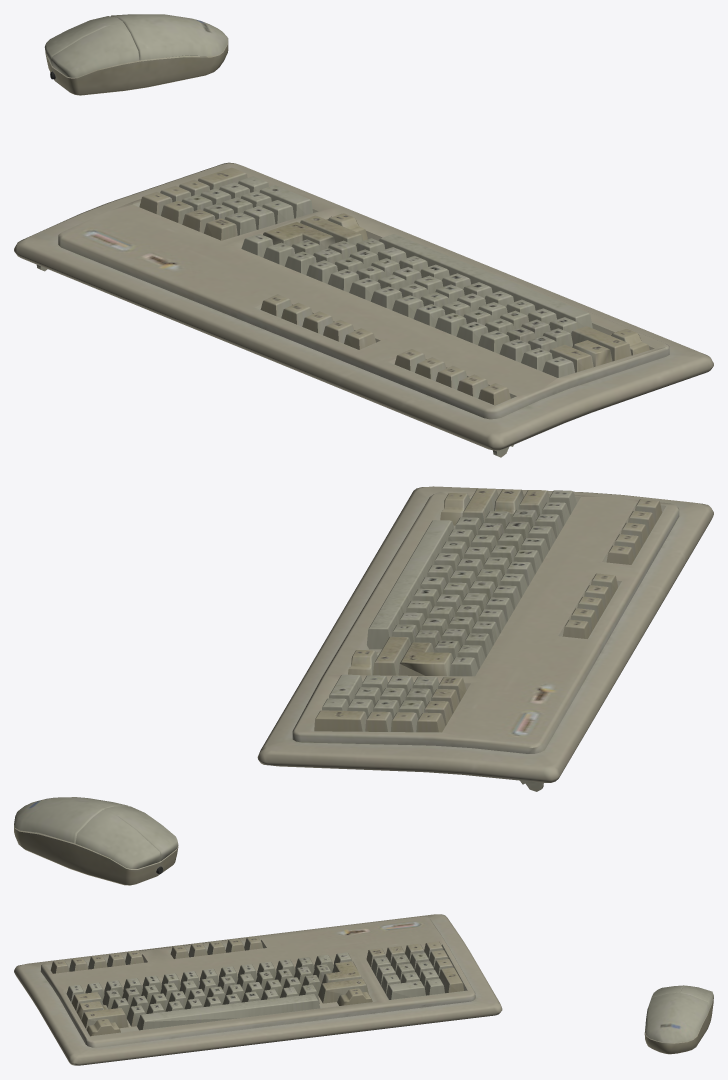
File: keyboard.gltf
3 renders of one model, top to bottom at view 1: azimuth 30°, elevation 25°; view 2: azimuth 150°, elevation 25°; view 3: azimuth 270°, elevation 25°, orthographic. The views are drawn at different scales.
Visible parts, largest first — view 1: keyboard; view 2: keyboard; view 3: keyboard.
Boxes of the visible parts, x1,y1,x2,y2 form: keyboard: (14, 14, 713, 457); keyboard: (14, 486, 713, 885); keyboard: (14, 914, 713, 1065).
Size of the model in its own units: 0.3151 by 0.0364 by 0.6784.
1 material, 1 textured.
